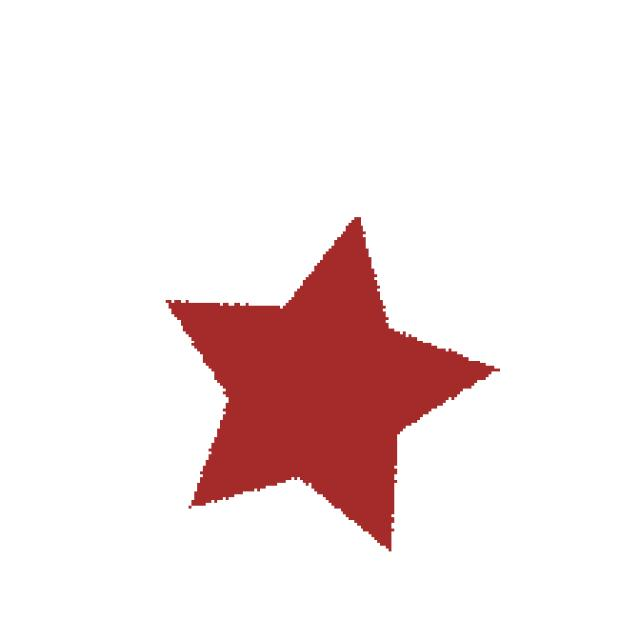Star: (140, 195, 473, 604)
